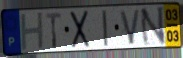H: (20, 11, 46, 53)
I: (100, 9, 110, 48)
N: (139, 4, 167, 47)
T: (44, 12, 64, 50)
V: (118, 8, 142, 47)
X: (69, 9, 91, 50)
